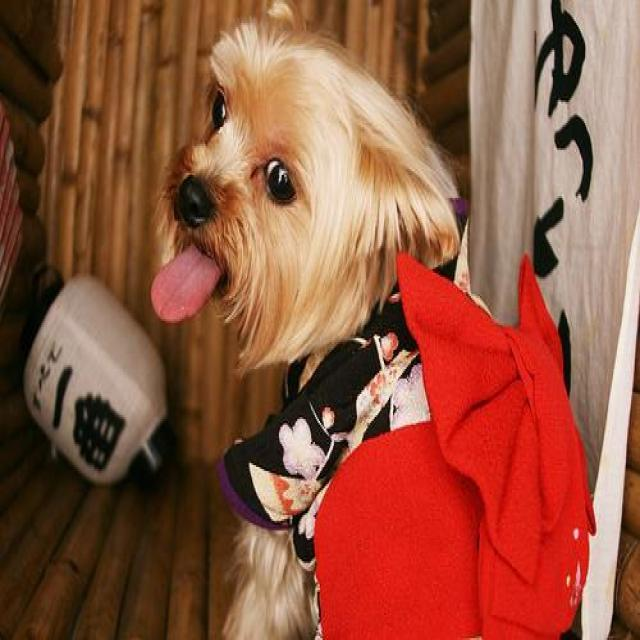adult_dog: (149, 18, 593, 640)
